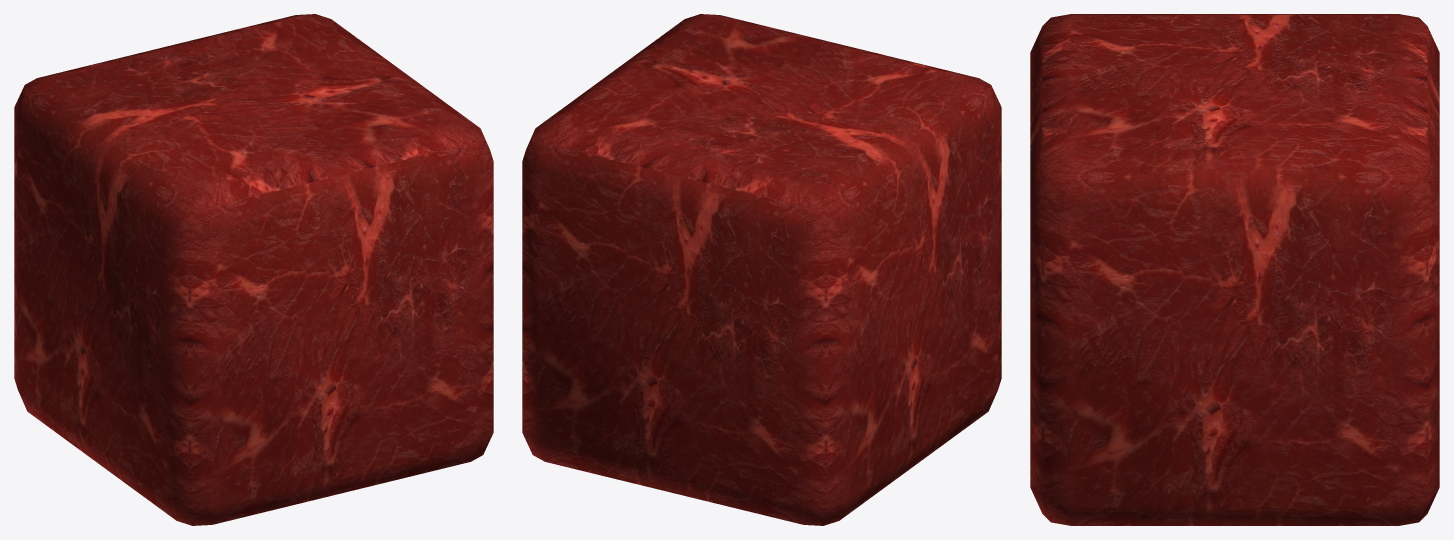
The model's file is meatcube.gltf.
The picture shows the model from 3 angles, left to right: view 1: azimuth 30°, elevation 25°; view 2: azimuth 150°, elevation 25°; view 3: azimuth 270°, elevation 25°; orthographic projection. The views are drawn at different scales.
Parts seen in each view (by area): view 1: cube; view 2: cube; view 3: cube.
Part boxes in pixels (x1,y1,x2,y2): cube: (14, 14, 493, 525); cube: (522, 14, 1001, 525); cube: (1030, 14, 1439, 525).
Size of the model in its own units: 5 by 5 by 5.
1 material, 1 textured.
